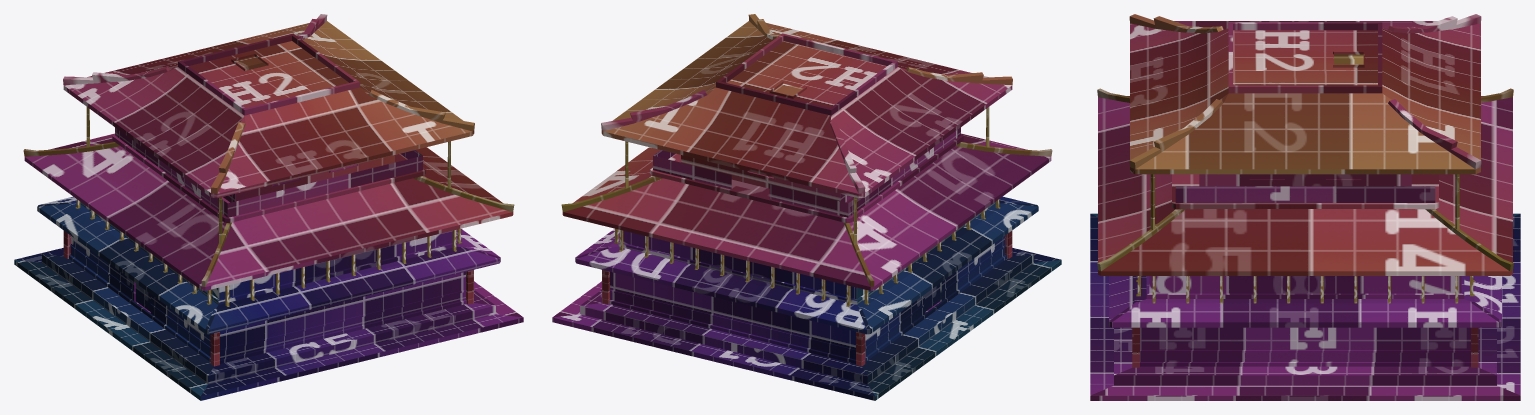
The model's file is 3D_Collectors_Building.FBX.
3 renders of one model, left to right at view 1: azimuth 30°, elevation 25°; view 2: azimuth 150°, elevation 25°; view 3: azimuth 270°, elevation 25°, orthographic. The views are drawn at different scales.
Visible parts, largest first — view 1: dak2; view 2: dak2; view 3: dak2.
Part boxes in pixels (x1,y1,x2,y2): dak2: [14, 14, 523, 400]; dak2: [552, 14, 1061, 400]; dak2: [1090, 14, 1520, 400].
Size of the model in its own units: 19.99 by 13.1 by 19.99.
1 material, 1 textured.
